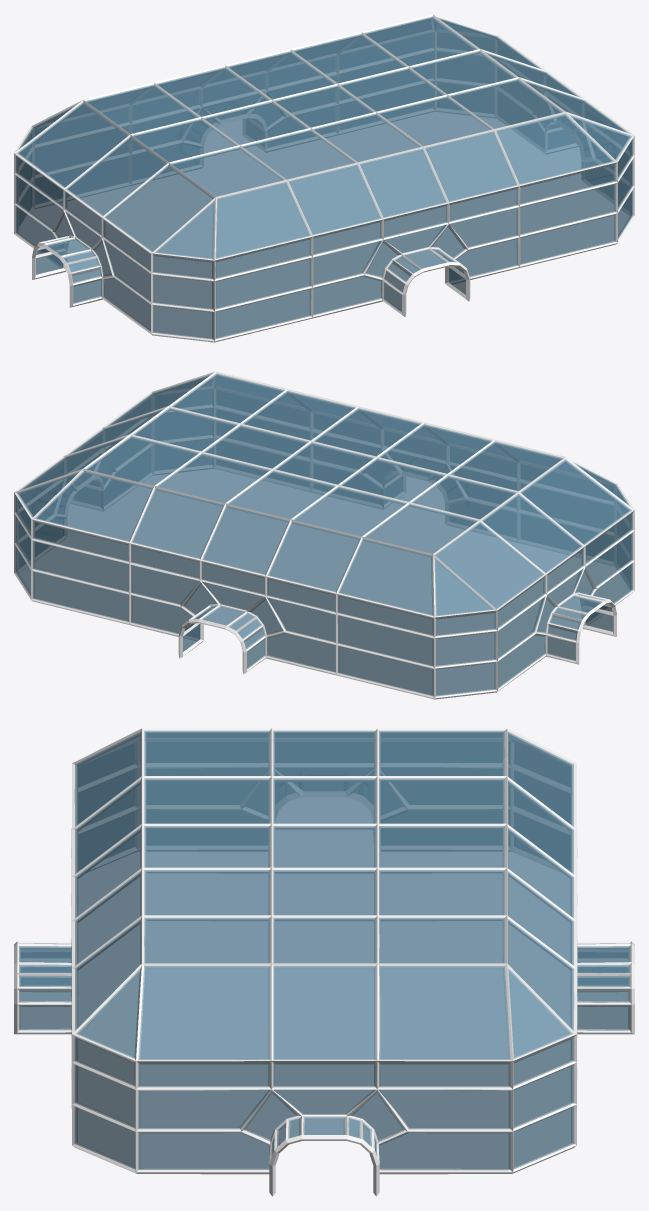
File: Rumah_Kaca_001.fbx
3 views of the same model, one above another, from view 1: azimuth 30°, elevation 25°; view 2: azimuth 150°, elevation 25°; view 3: azimuth 270°, elevation 25° (orthographic). The views are drawn at different scales.
Visible parts, largest first — view 1: Rumah_Kaca.001; view 2: Rumah_Kaca.001; view 3: Rumah_Kaca.001.
Boxes of the visible parts, x1=… form: Rumah_Kaca.001: x1=14, y1=14, x2=634, y2=342; Rumah_Kaca.001: x1=14, y1=371, x2=634, y2=699; Rumah_Kaca.001: x1=14, y1=728, x2=634, y2=1196.
Size of the model in its own units: 4649 by 986 by 3319.
